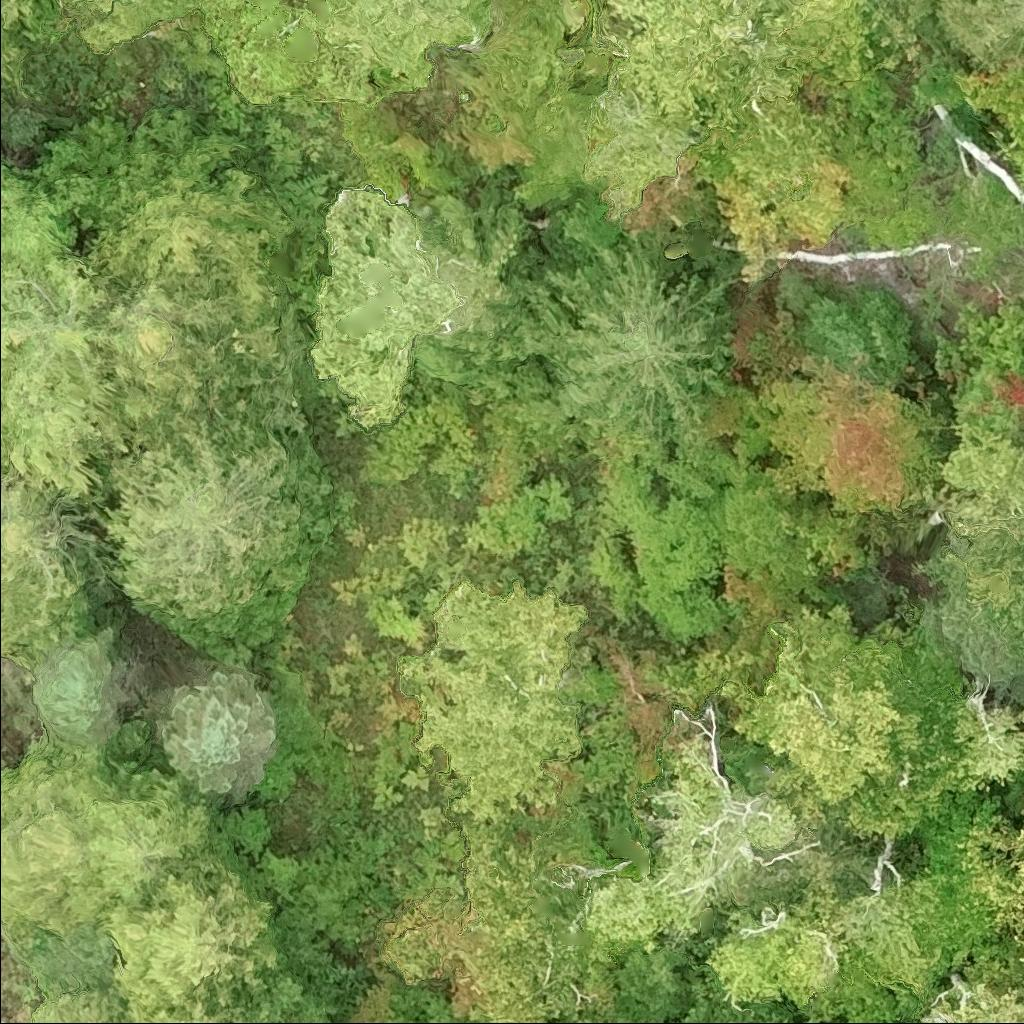crown: (717, 607, 954, 838), (0, 262, 212, 507), (584, 742, 820, 962), (310, 186, 504, 431), (396, 580, 590, 824), (86, 152, 293, 349), (112, 419, 302, 616), (709, 874, 944, 1023), (556, 246, 736, 439), (384, 833, 564, 1023), (595, 0, 853, 121), (758, 354, 943, 517), (109, 859, 278, 1013), (0, 737, 115, 933), (0, 471, 105, 652), (587, 65, 705, 220), (85, 766, 210, 899), (161, 667, 277, 799), (328, 0, 494, 91), (30, 629, 124, 756), (942, 422, 1023, 549), (960, 54, 1023, 185), (963, 820, 1023, 950), (73, 0, 196, 51), (934, 0, 1023, 69), (919, 976, 1023, 1023), (124, 996, 260, 1023), (32, 992, 125, 1023), (0, 15, 28, 95), (429, 1009, 506, 1023), (764, 1016, 787, 1023)
